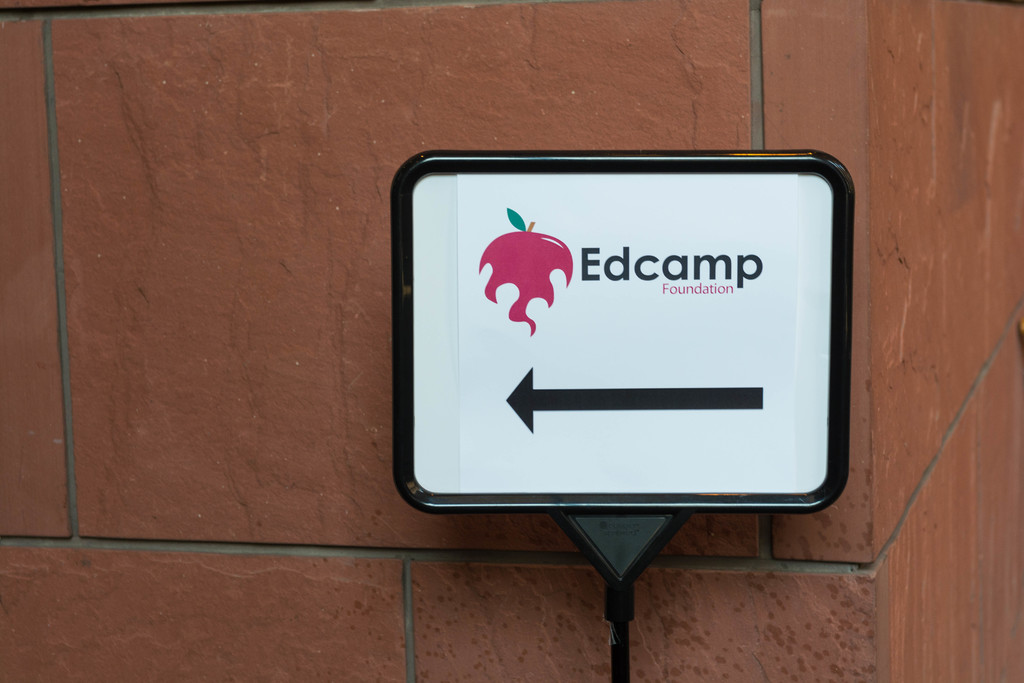Apple: (477, 220, 572, 333)
